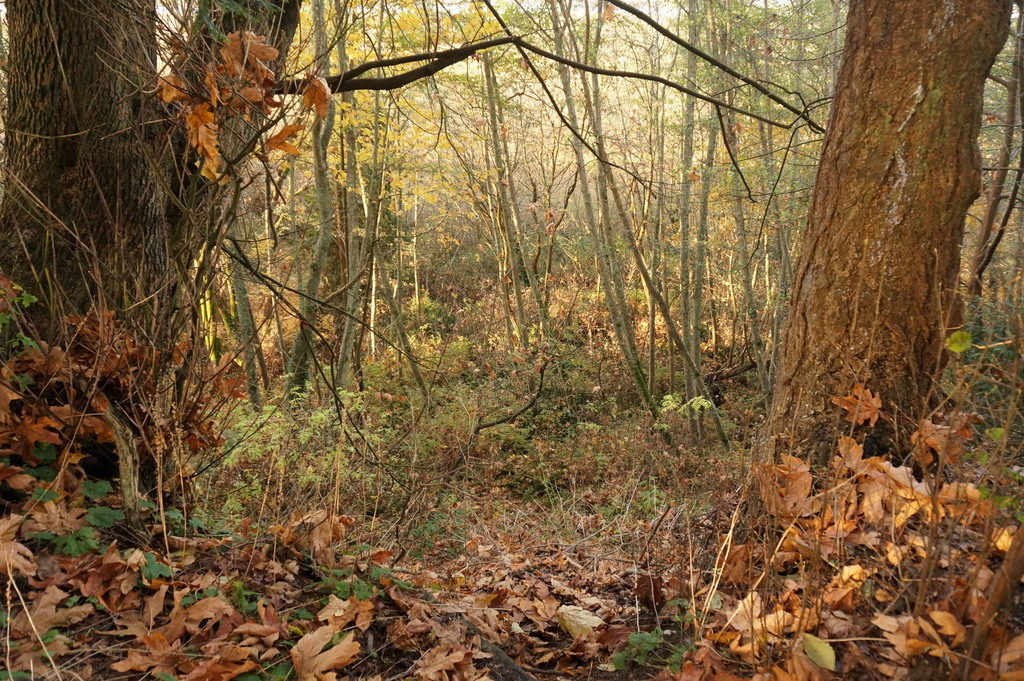Tree: (0, 0, 841, 492), (692, 0, 1023, 680)
